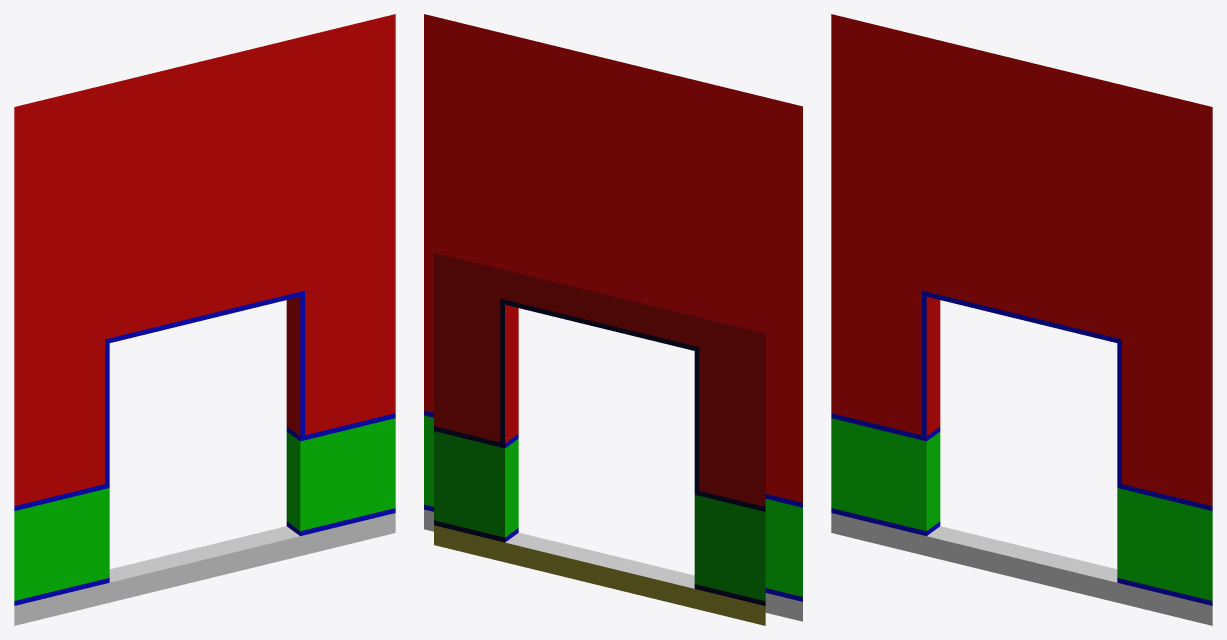
The model's file is SM_Room4xXDoorD.fbx.
3 renders of one model, left to right at view 1: azimuth 30°, elevation 25°; view 2: azimuth 150°, elevation 25°; view 3: azimuth 330°, elevation 25°, orthographic.
Visible parts, largest first — view 1: SM_Room4xXDoorD; view 2: SM_Room4xXDoorD; view 3: SM_Room4xXDoorD.
Boxes of the visible parts, x1,y1,x2,y2 form: SM_Room4xXDoorD: (14,14,395,625); SM_Room4xXDoorD: (424,14,802,625); SM_Room4xXDoorD: (831,14,1212,625).
Size of the model in its own units: 400 by 520 by 25.
